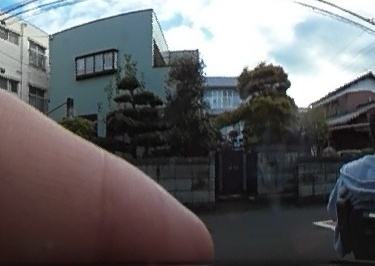person: (320, 102, 375, 255)
